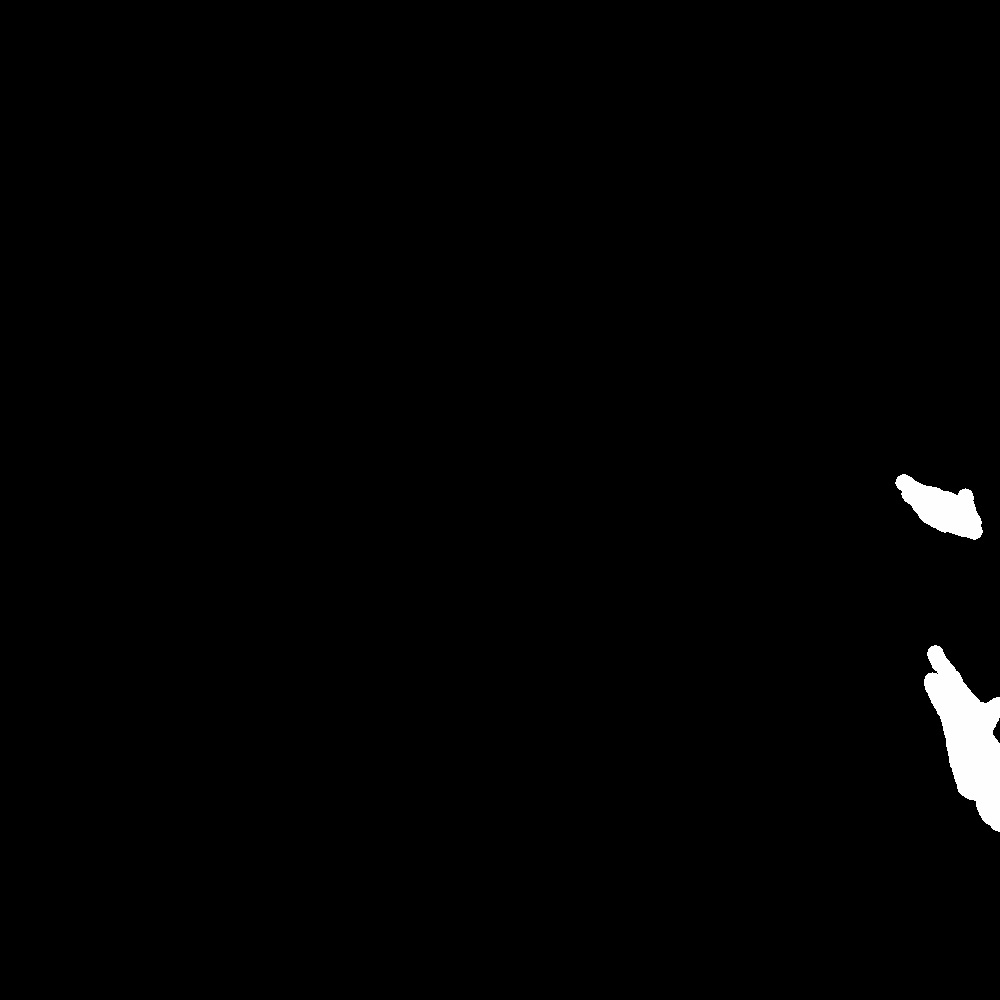illegal: (929, 650, 1000, 831)
